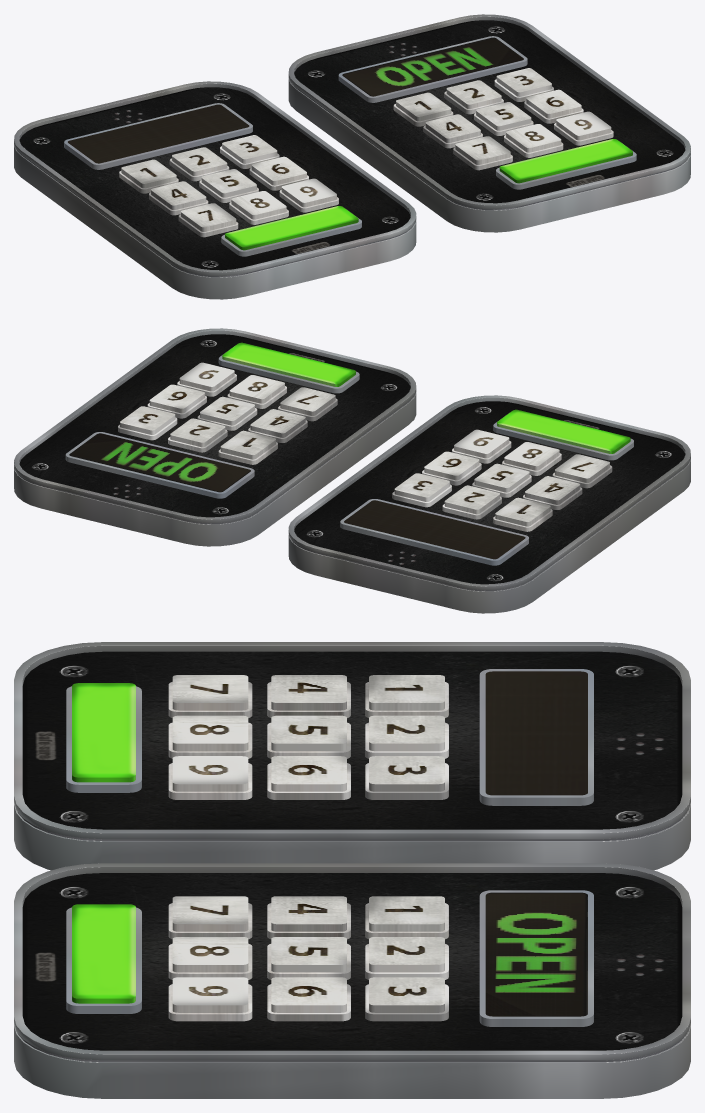
The model's file is 44 Keypad.fbx.
The picture shows the model from 3 angles, top to bottom: view 1: azimuth 30°, elevation 25°; view 2: azimuth 150°, elevation 25°; view 3: azimuth 270°, elevation 25°; orthographic projection. The views are drawn at different scales.
Parts seen in each view (by area): view 1: Rectangle015, Rectangle001, Rectangle016, Rectangle003, Rectangle014, Rectangle026, Rectangle010, Rectangle023, Rectangle012, Rectangle025, Rectangle024, Rectangle011 (+12 smaller); view 2: Rectangle001, Rectangle015, Rectangle016, Rectangle003, Rectangle026, Rectangle014, Rectangle019, Rectangle018, Rectangle005, Rectangle006, Rectangle017, Rectangle004 (+12 smaller); view 3: Rectangle015, Rectangle001, Rectangle003, Rectangle016, Rectangle014, Rectangle026, Rectangle025, Rectangle019, Rectangle022, Rectangle012, Rectangle009, Rectangle006 (+12 smaller).
Part boxes in pixels (x1,y1,x2,y2): Rectangle015: (288,14,690,232); Rectangle001: (14,81,416,299); Rectangle016: (338,36,527,102); Rectangle003: (64,103,252,169); Rectangle014: (221,206,361,256); Rectangle026: (496,139,636,189); Rectangle010: (178,203,238,237); Rectangle023: (453,136,512,170); Rectangle012: (279,178,338,212); Rectangle025: (554,111,613,145); Rectangle024: (504,124,563,157); Rectangle011: (229,191,288,224); Rectangle001: (288,395,690,613); Rectangle015: (14,328,416,546); Rectangle016: (65,432,254,498); Rectangle003: (340,499,528,565); Rectangle026: (218,342,359,393); Rectangle014: (493,409,633,460); Rectangle019: (118,406,177,440); Rectangle018: (168,418,227,452); Rectangle005: (442,485,501,519); Rectangle006: (392,473,451,507); Rectangle017: (218,430,277,464); Rectangle004: (493,497,552,531); Rectangle015: (14,863,690,1098); Rectangle001: (14,642,690,870); Rectangle003: (479,669,593,805); Rectangle016: (479,890,593,1026); Rectangle014: (66,683,141,792); Rectangle026: (66,904,141,1013); Rectangle025: (168,977,252,1021); Rectangle019: (365,977,448,1021); Rectangle022: (267,977,350,1021); Rectangle012: (168,756,252,799); Rectangle009: (267,756,350,799); Rectangle006: (365,756,448,799).
Bounding box in the file's own units: 117 × 7.07 × 81.56.
5 materials, 5 textured.
